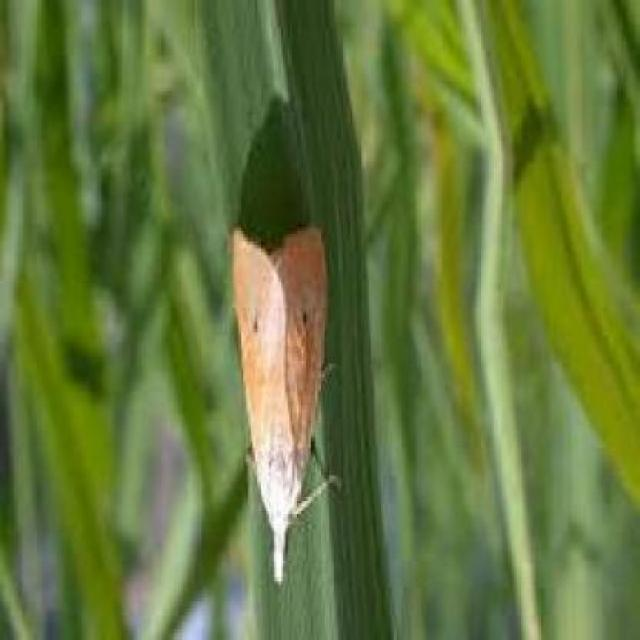stem-borer: (231, 225, 340, 584)
